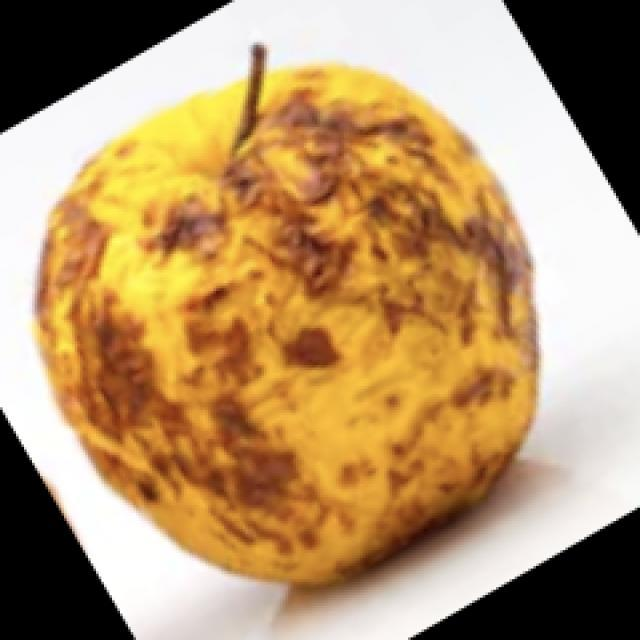Rotten: (54, 75, 534, 585)
